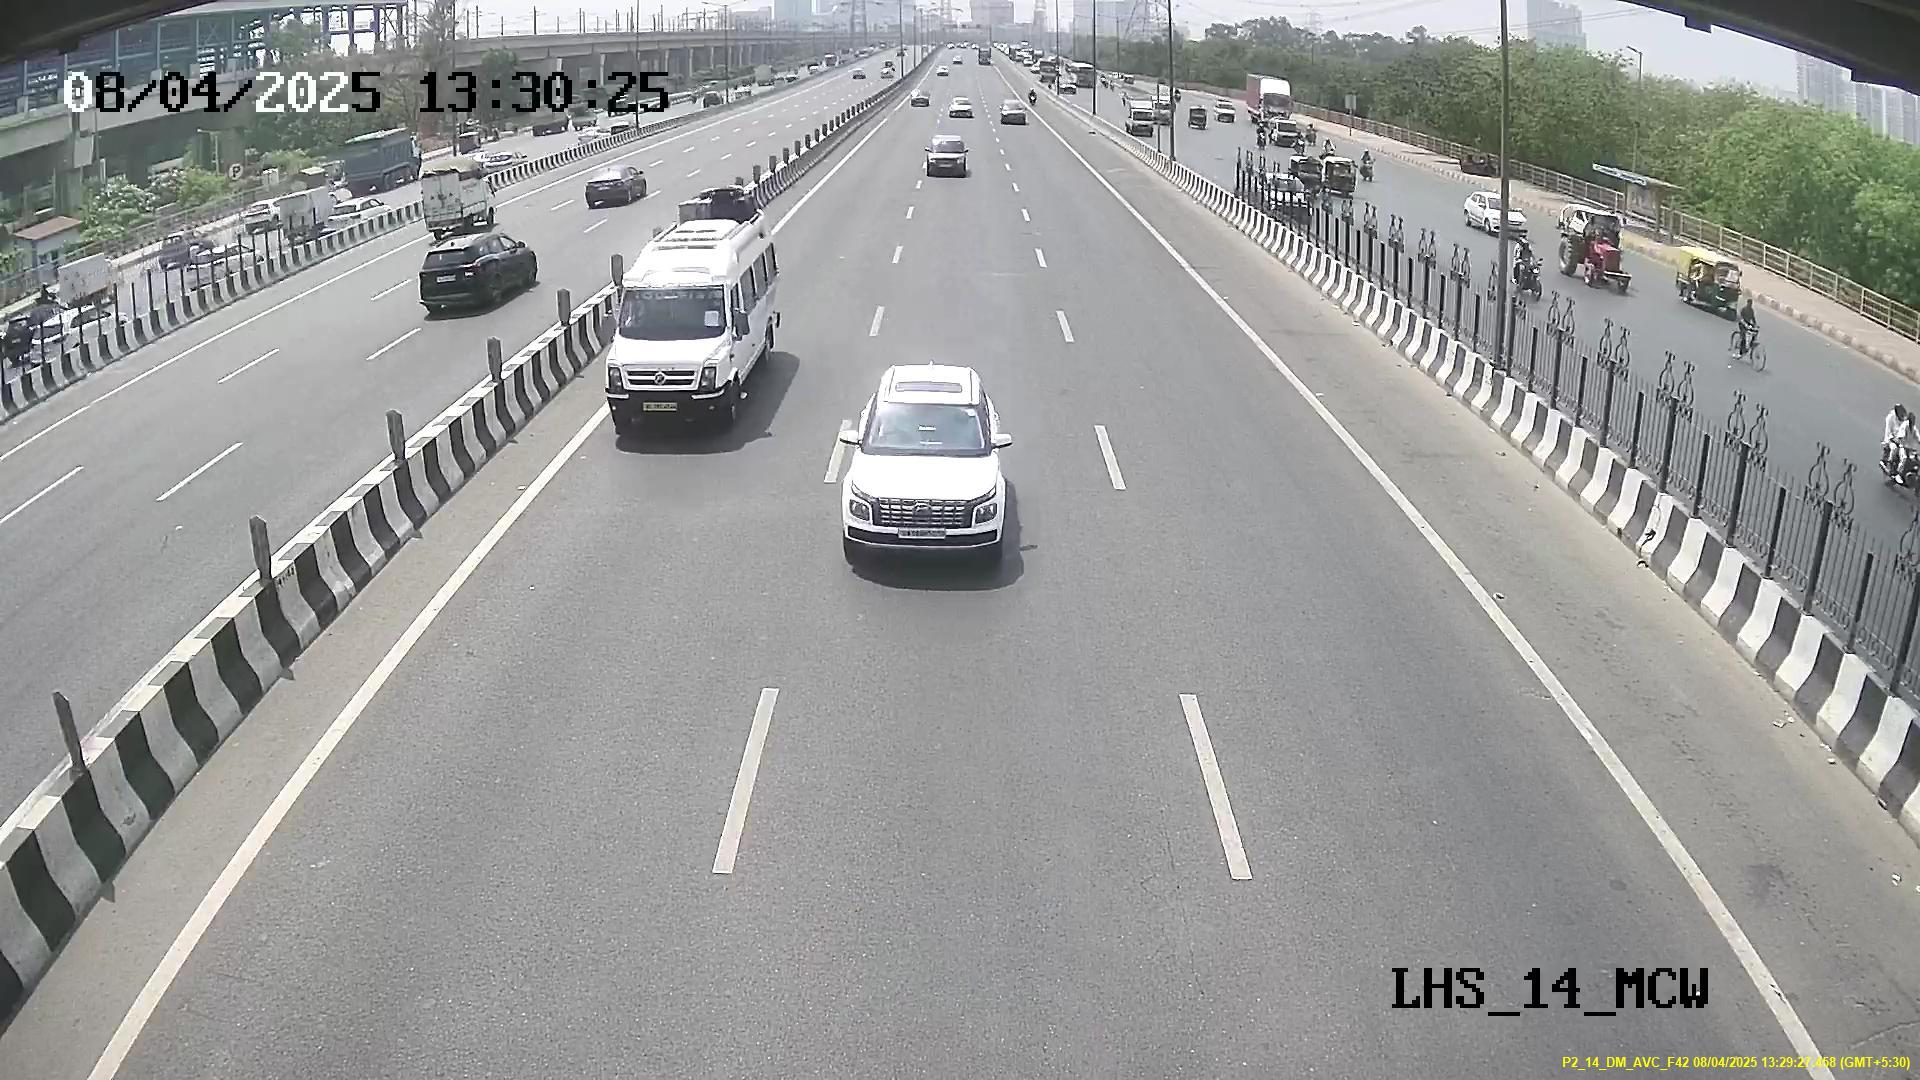car: (836, 373, 1009, 567)
lcv: (600, 248, 764, 435)
